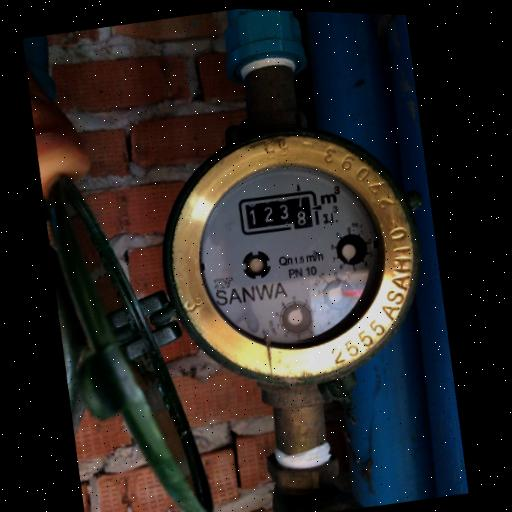1: (244, 203, 261, 229)
2: (258, 200, 278, 227)
3: (274, 199, 292, 225)
7: (289, 196, 311, 229)
border_water_meter_number: (234, 185, 324, 239)
